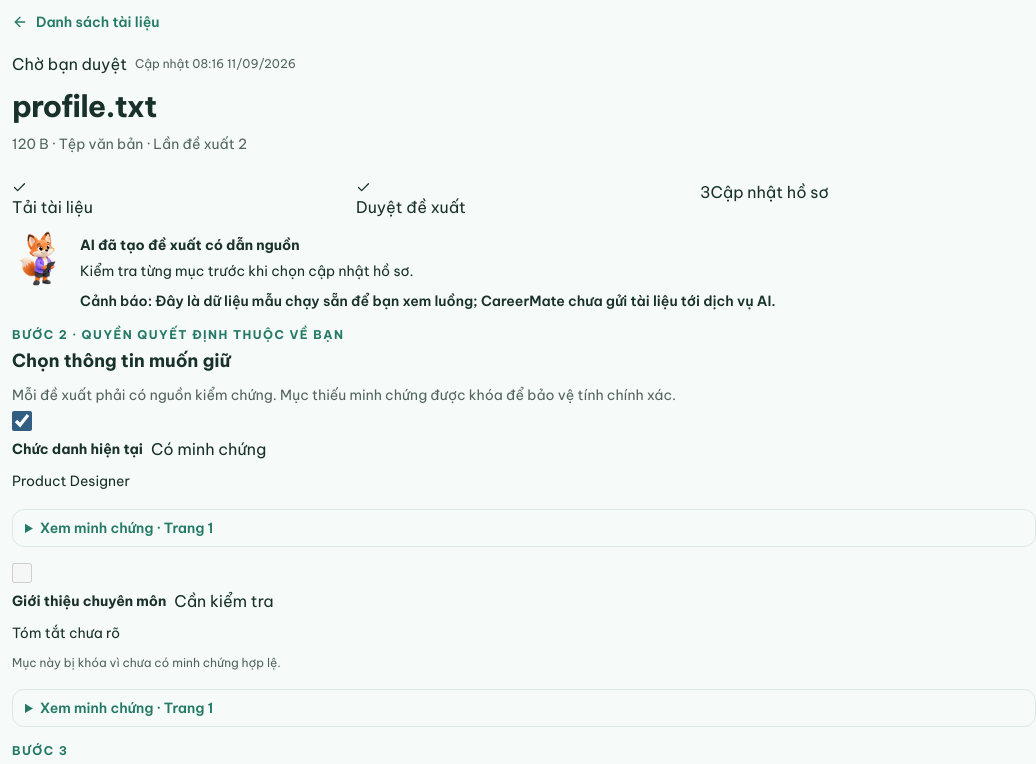
Scenario: profile import review › restores the persisted AI outcome and uses a human-readable demo warning
The image size is (1036, 764).
Check: the heading "AI đã tạo đề xuất có dẫn nguồn" is shown, box [80, 236, 300, 254]
Check: the text "Đây là dữ liệu mẫu chạy sẵn để bạn xem luồng" is shown, box [155, 292, 776, 310]
Click the heading "Xem minh chứng · Trang 1" below "Chức danh hiện tại": [127, 528] box [40, 519, 213, 537]
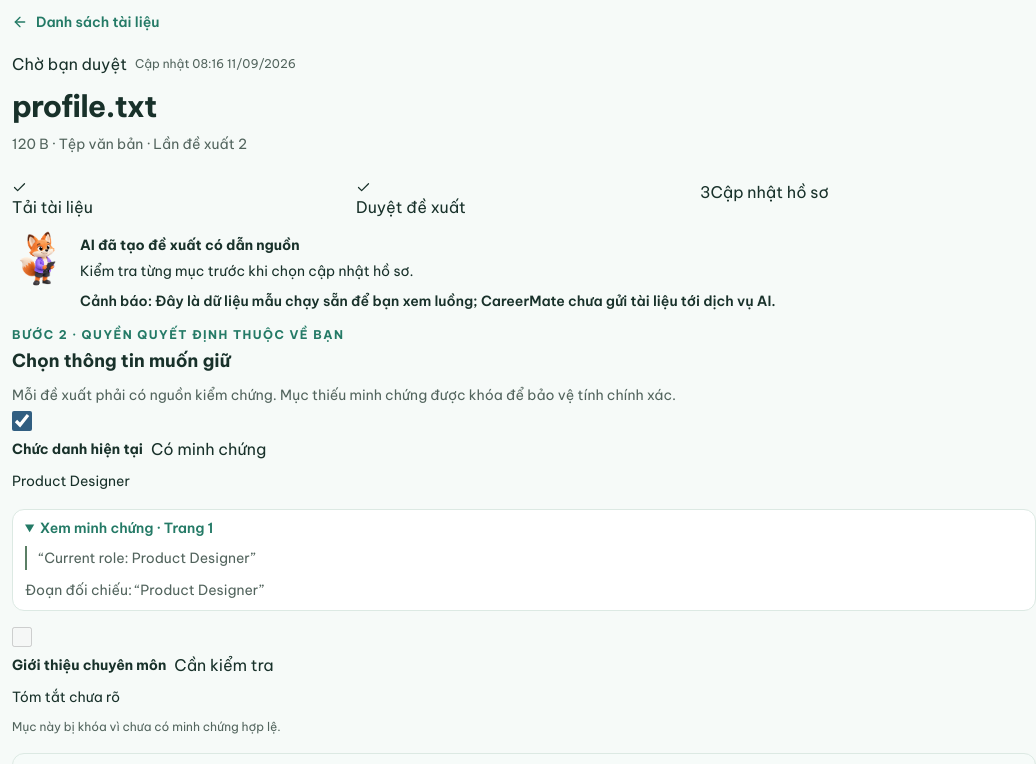
Check: the text "“Current role: Product Designer”" is shown, box [25, 546, 1023, 570]
